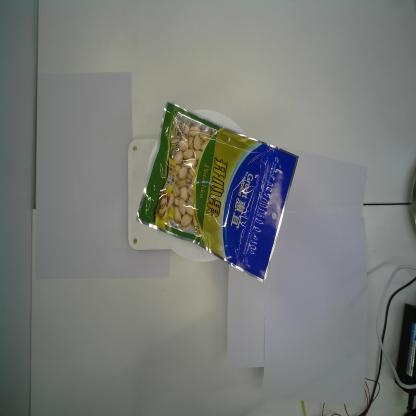Dried Fruit: (133, 101, 300, 285)
